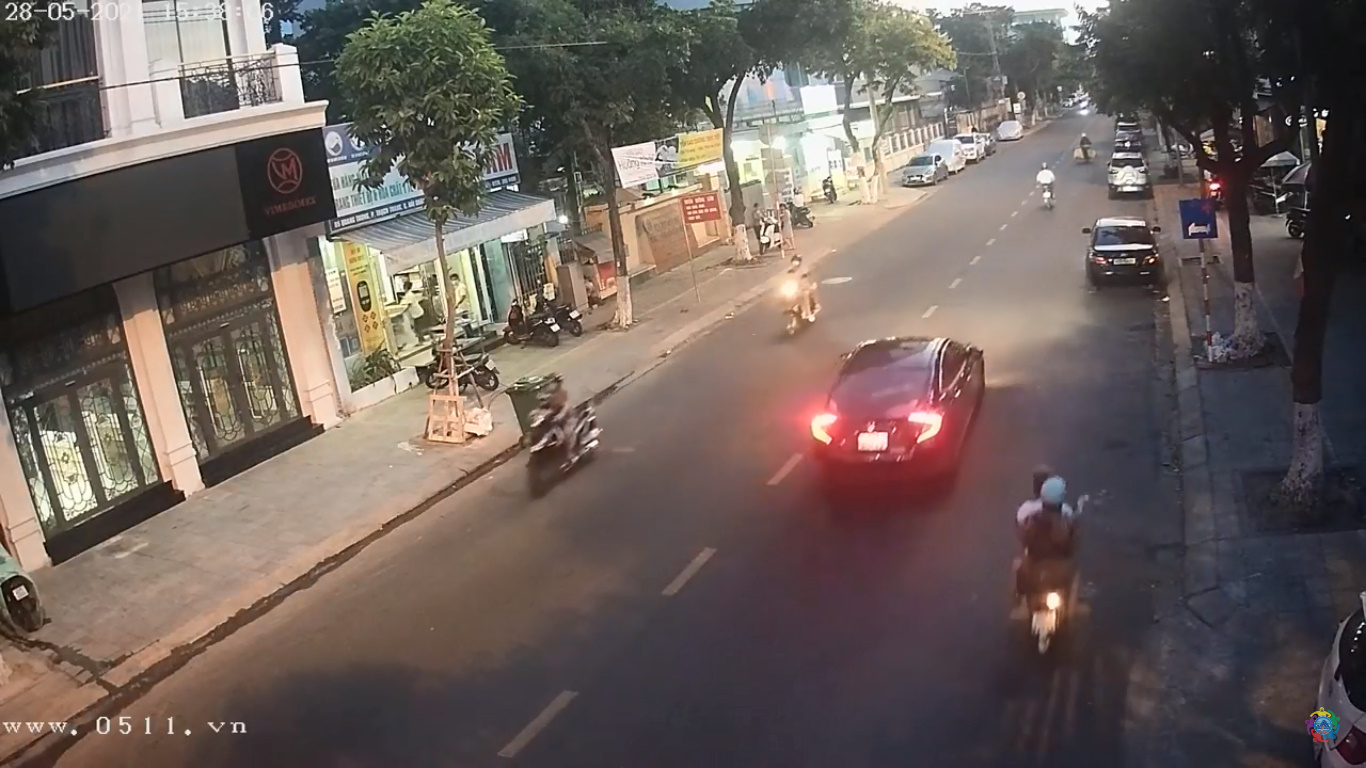car: (807, 332, 987, 488)
